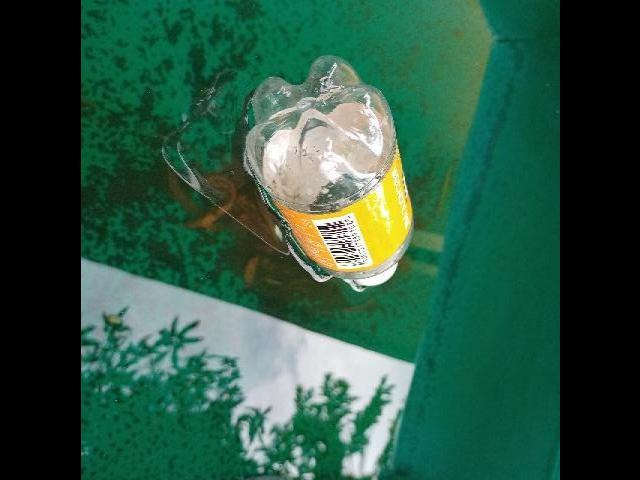Bottle: (235, 43, 419, 298)
